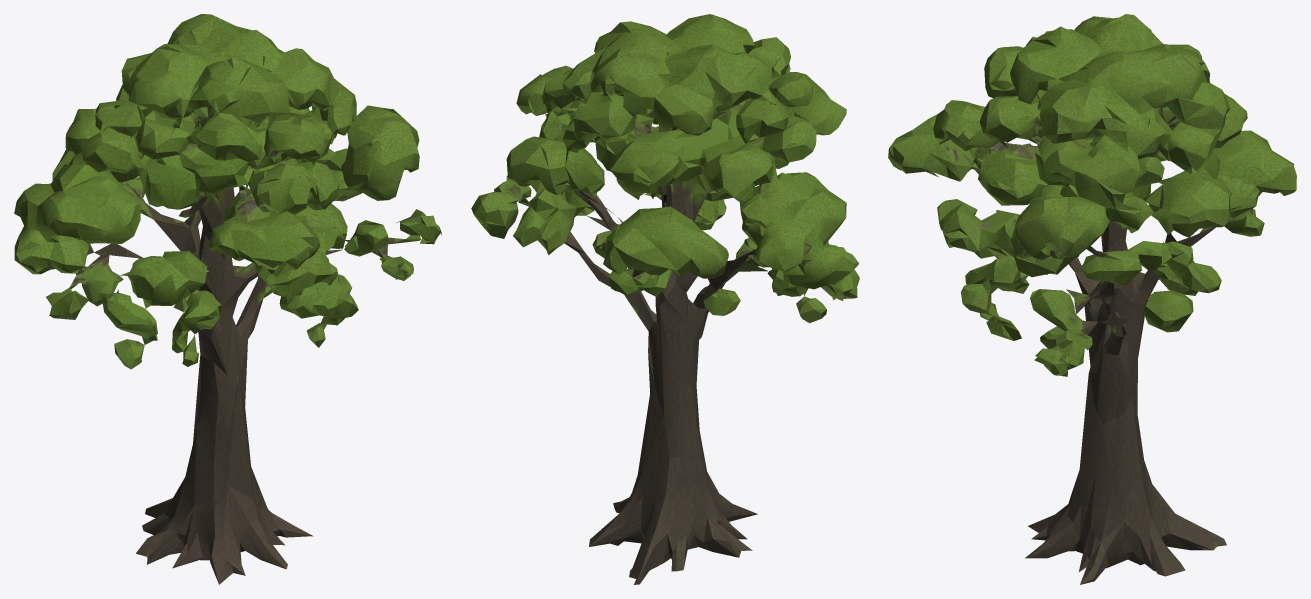
Rendered from tree_broadleaf_mid.glb.
3 views of the same model, side by side, from view 1: azimuth 30°, elevation 25°; view 2: azimuth 150°, elevation 25°; view 3: azimuth 270°, elevation 25° (orthographic).
Parts seen in each view (by area): view 1: output_unwrapped; view 2: output_unwrapped; view 3: output_unwrapped.
Boxes of the visible parts, x1,y1,x2,y2 form: output_unwrapped: (14,14,441,584); output_unwrapped: (471,14,859,584); output_unwrapped: (888,14,1296,584).
Size of the model in its own units: 1.51 by 1.88 by 1.34.
1 material, 1 textured.
